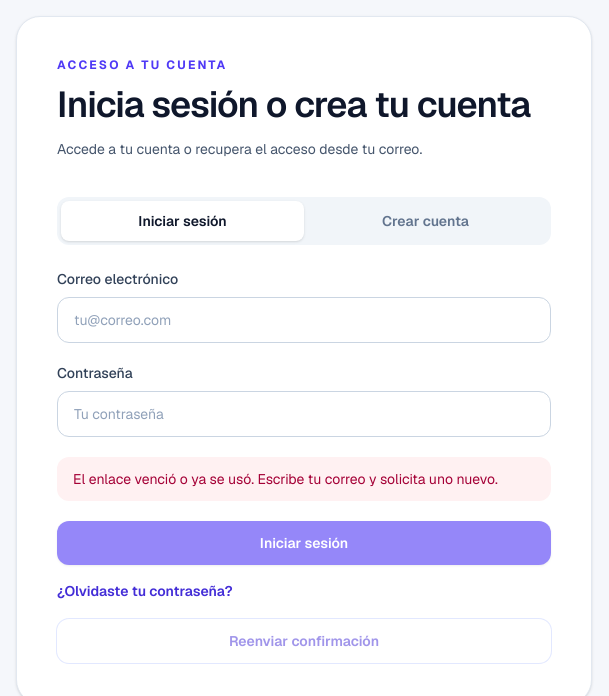
Test case: AuthPlayground in JSDOM › offers a resend action when Supabase reports an expired confirmation link
The width and height of the screenshot is (609, 696).
Expected: the message shows "El enlace venció o ya se usó", [73, 470, 498, 488]
Type "new-user@example.test" into the field labelled "Correo electrónico" at (304, 320), box [57, 297, 551, 343]
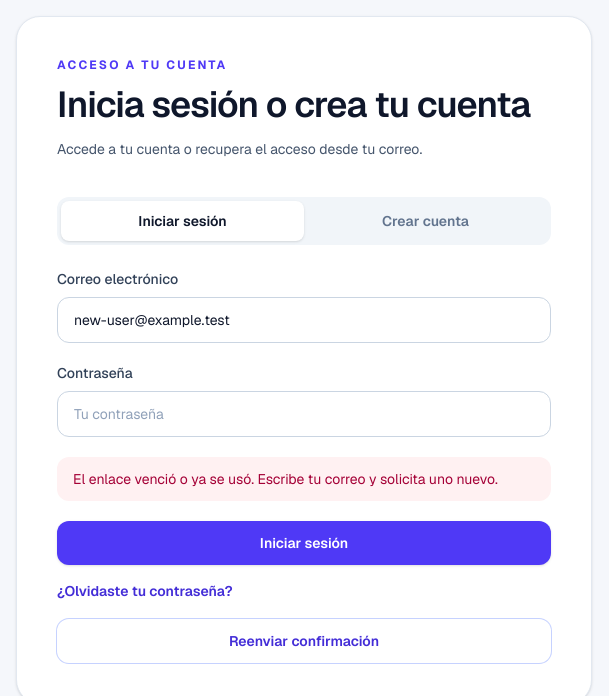
Click the button "Reenviar confirmación" at (304, 641), box [57, 619, 551, 663]
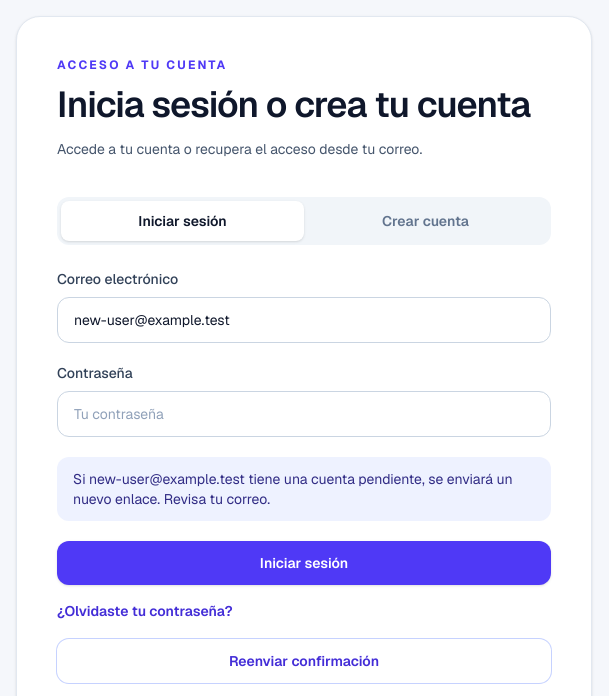
Result: the message shows "se enviará un nuevo enlace" at [73, 470, 513, 508]
